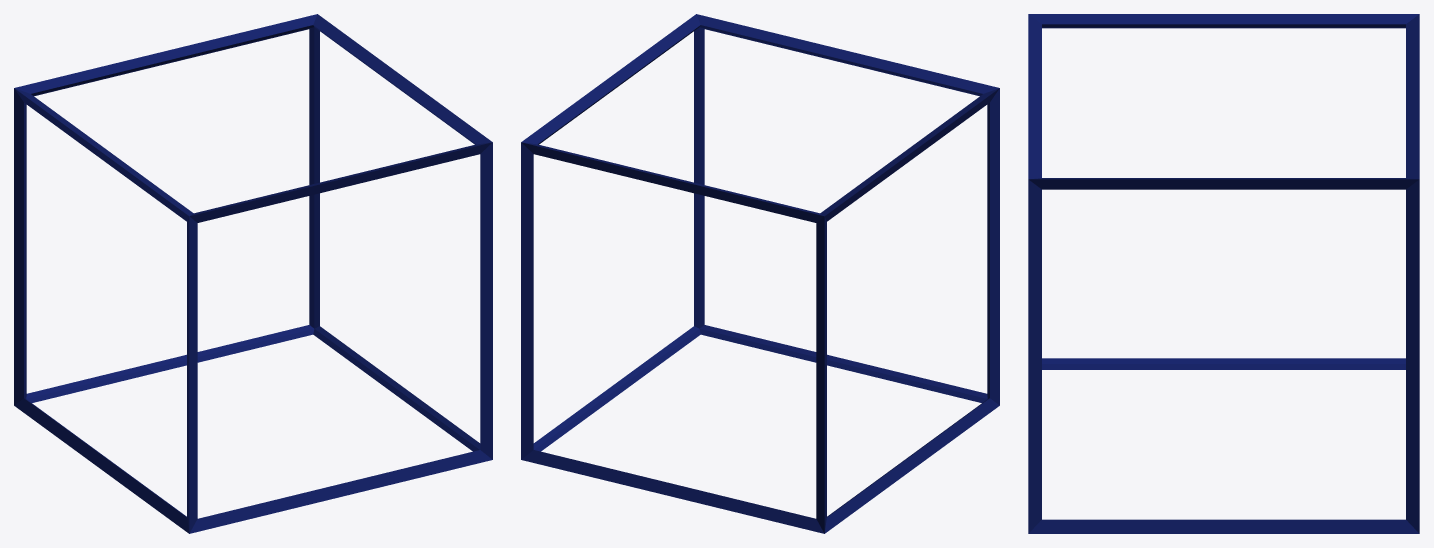
The model's file is рамка.gltf.
The picture shows the model from 3 angles, left to right: view 1: azimuth 30°, elevation 25°; view 2: azimuth 150°, elevation 25°; view 3: azimuth 270°, elevation 25°; orthographic projection. The views are drawn at different scales.
Visible parts, largest first — view 1: рамка; view 2: рамка; view 3: рамка.
Part boxes in pixels (x1=…): рамка: x1=14, y1=14, x2=492, y2=533; рамка: x1=521, y1=14, x2=999, y2=533; рамка: x1=1028, y1=14, x2=1419, y2=533.
Size of the model in its own units: 2.05 by 2.05 by 2.05.
